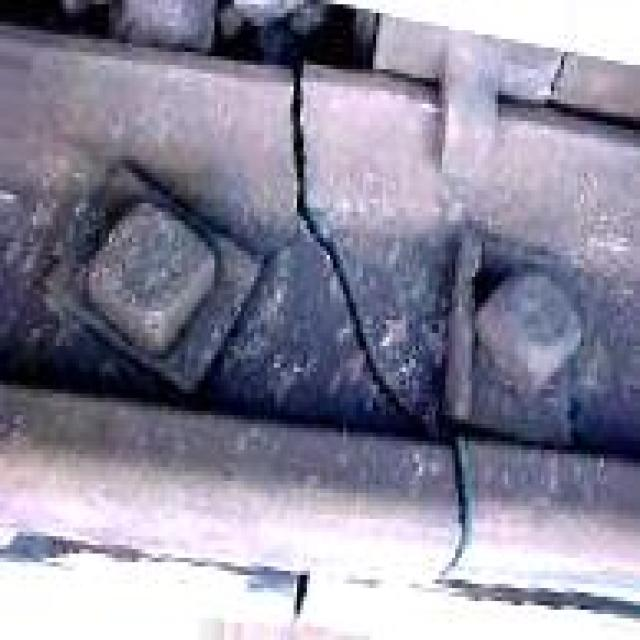crack: (234, 20, 544, 634)
